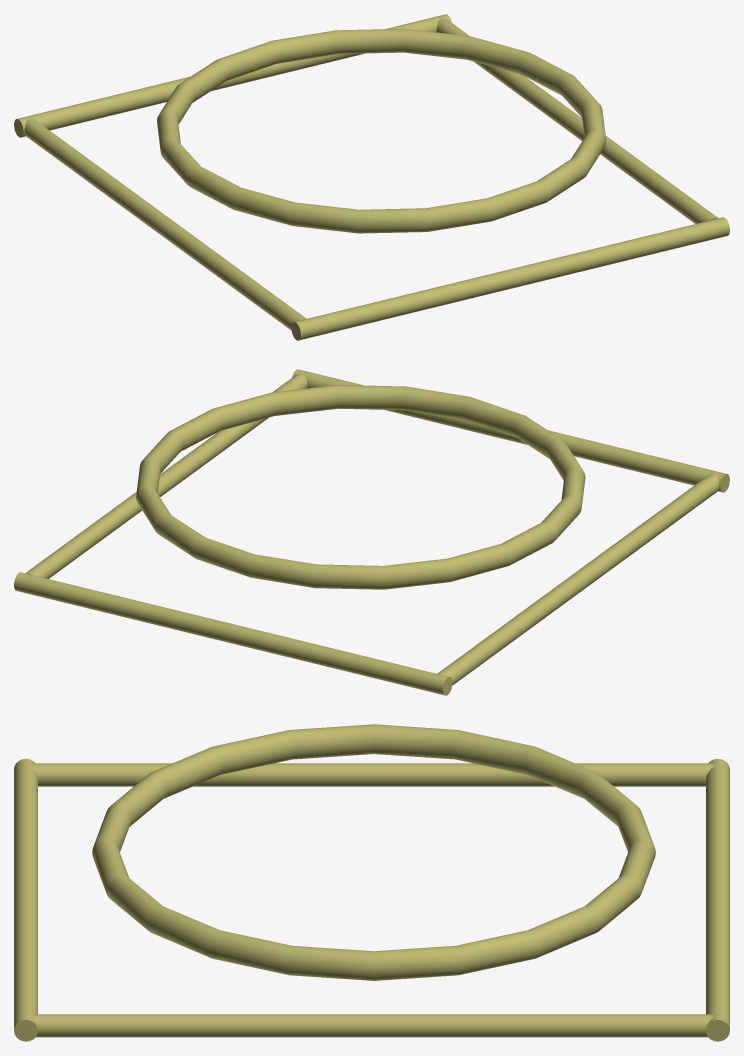
Rendered from CeilingLight.fbx.
3 views of the same model, one above another, from view 1: azimuth 30°, elevation 25°; view 2: azimuth 150°, elevation 25°; view 3: azimuth 270°, elevation 25° (orthographic). The views are drawn at different scales.
Parts seen in each view (by area): view 1: pTorus1, pCylinder2, pCylinder3, pCylinder4, pCylinder1; view 2: pTorus1, pCylinder1, pCylinder3, pCylinder4, pCylinder2; view 3: pTorus1, pCylinder4, pCylinder3, pCylinder2, pCylinder1.
Part boxes in pixels (bbox=[...]): pTorus1: bbox=[157, 28, 606, 233]; pCylinder2: bbox=[291, 217, 729, 340]; pCylinder3: bbox=[24, 118, 306, 330]; pCylinder4: bbox=[436, 18, 718, 223]; pCylinder1: bbox=[14, 14, 451, 137]; pTorus1: bbox=[136, 385, 585, 589]; pCylinder1: bbox=[14, 572, 452, 695]; pCylinder3: bbox=[437, 473, 719, 685]; pCylinder4: bbox=[25, 374, 307, 578]; pCylinder2: bbox=[292, 369, 729, 492]; pTorus1: bbox=[92, 724, 655, 980]; pCylinder4: bbox=[34, 1014, 712, 1037]; pCylinder3: bbox=[30, 763, 715, 786]; pCylinder2: bbox=[14, 758, 37, 1041]; pCylinder1: bbox=[706, 758, 729, 1041].
Size of the model in its own units: 19.1 by 2.68 by 22.13.
